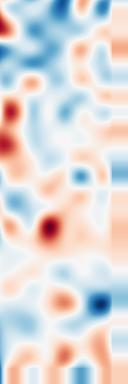filament: (0, 87, 38, 176)
